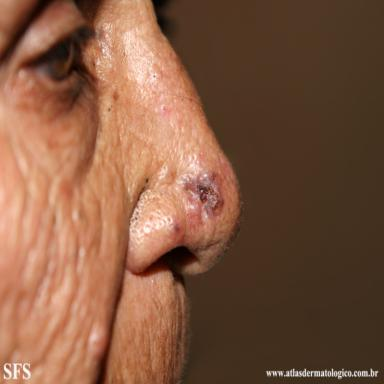basal-cell-carcinoma: (180, 169, 225, 229)
